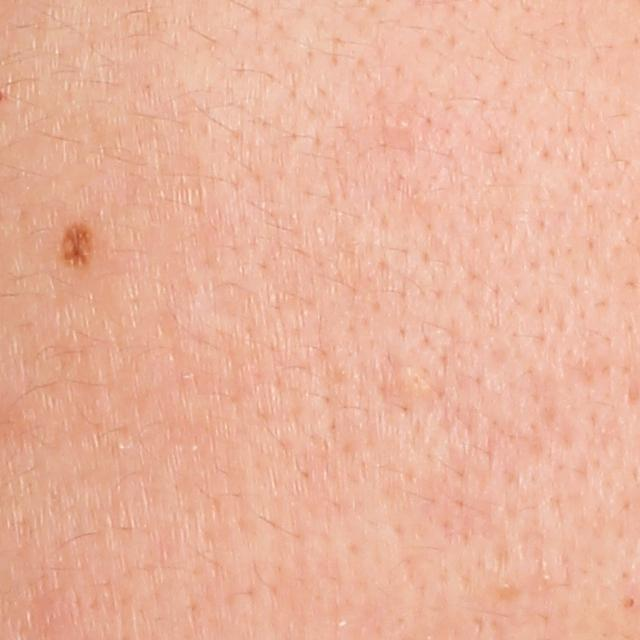comedo: (396, 115, 416, 130)
